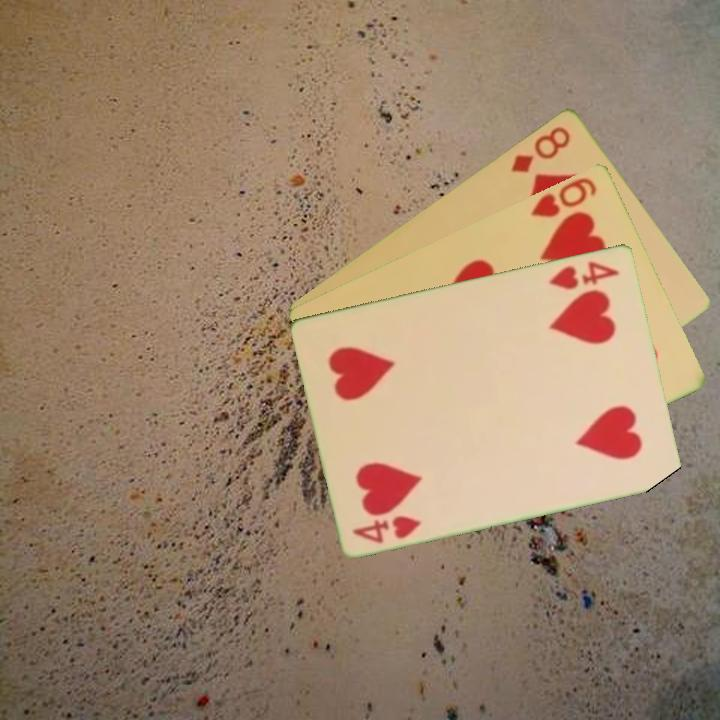4h: (545, 257, 623, 292), (349, 511, 424, 546)
6h: (527, 173, 600, 220)
8d: (507, 122, 574, 176)
